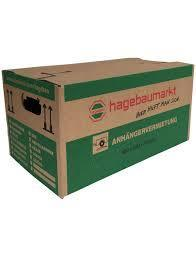box: (1, 58, 194, 199)
